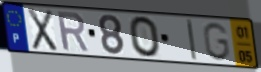8: (97, 14, 126, 56)
G: (201, 21, 232, 63)
I: (185, 18, 199, 62)
O: (127, 15, 163, 60)
R: (55, 11, 91, 54)
X: (26, 6, 59, 53)
